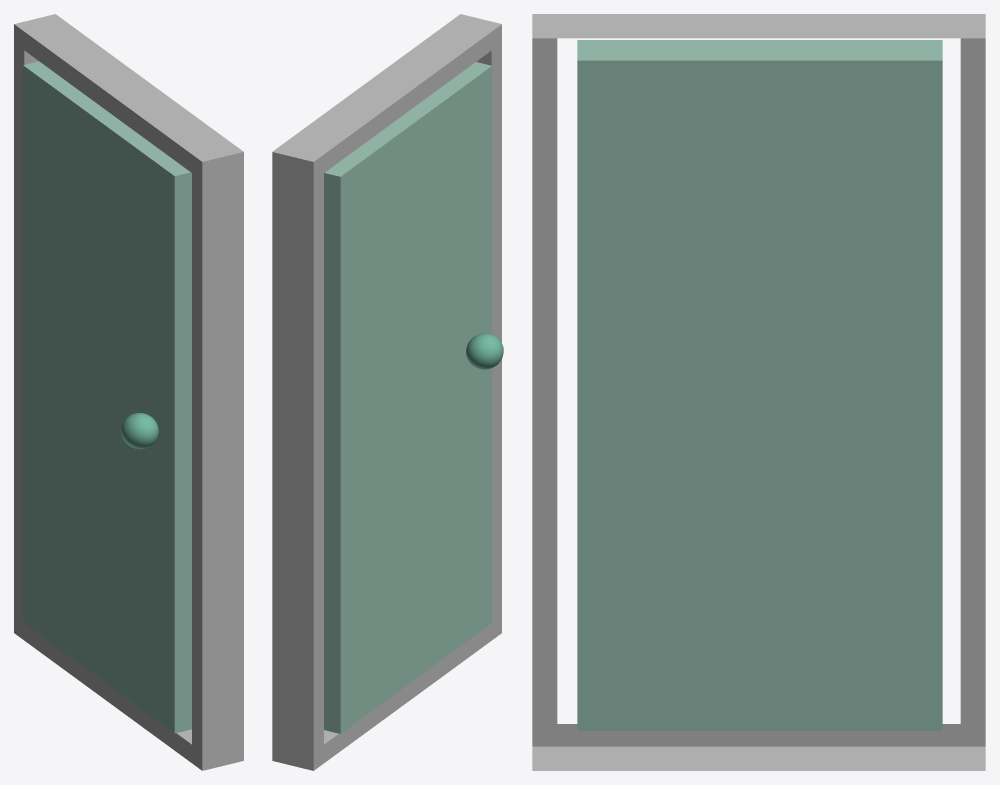
The model's file is door.fbx.
3 views of the same model, side by side, from view 1: azimuth 30°, elevation 25°; view 2: azimuth 150°, elevation 25°; view 3: azimuth 270°, elevation 25° (orthographic). The views are drawn at different scales.
Visible parts, largest first — view 1: pCube8, pCube7, pSphere1; view 2: pCube8, pCube7, pSphere1; view 3: pCube8, pCube7.
Boxes of the visible parts, x1,y1,x2,y2 form: pCube8: [23, 61, 191, 733]; pCube7: [14, 14, 243, 770]; pSphere1: [121, 413, 158, 449]; pCube8: [324, 62, 492, 733]; pCube7: [272, 14, 501, 770]; pSphere1: [466, 333, 503, 369]; pCube8: [577, 40, 942, 730]; pCube7: [532, 14, 985, 770].
Size of the model in its own units: 0.8972 by 6.5 by 3.65.
